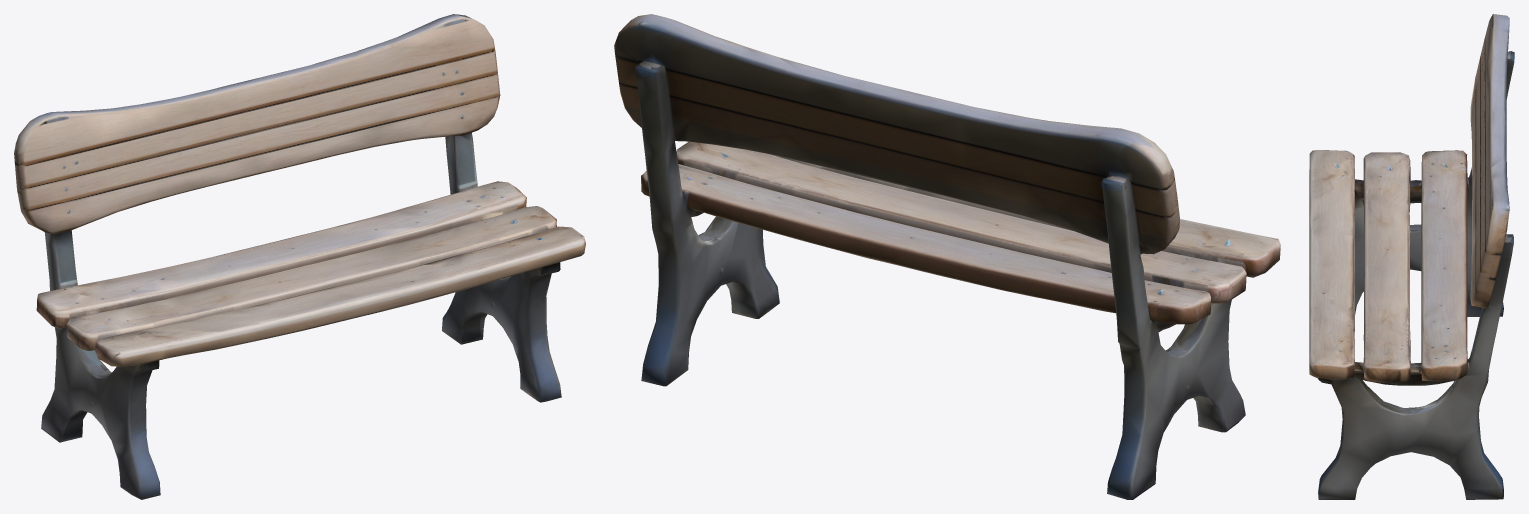
The model's file is park_bench_very_simp_0425091613_refine.fbx.
3 views of the same model, side by side, from view 1: azimuth 30°, elevation 25°; view 2: azimuth 150°, elevation 25°; view 3: azimuth 270°, elevation 25° (orthographic). The views are drawn at different scales.
Parts seen in each view (by area): view 1: Mesh_0; view 2: Mesh_0; view 3: Mesh_0.
Part boxes in pixels (x1,y1,x2,y2): Mesh_0: [14, 14, 585, 499]; Mesh_0: [614, 14, 1280, 499]; Mesh_0: [1309, 14, 1514, 499].
Size of the model in its own units: 200 by 126 by 80.26.
1 material, 1 textured.
